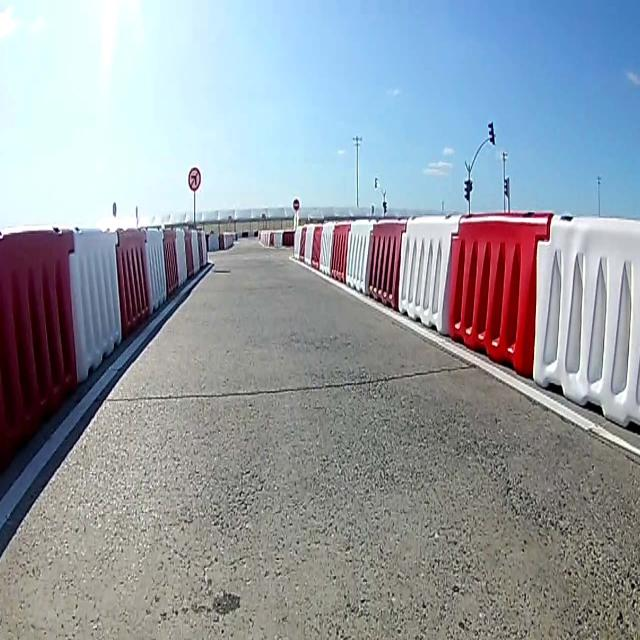girisyok: (292, 198, 300, 210)
soladonulmez: (188, 166, 201, 191)
